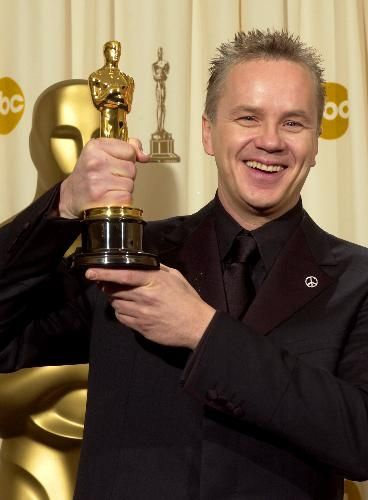hand: (94, 258, 207, 333)
